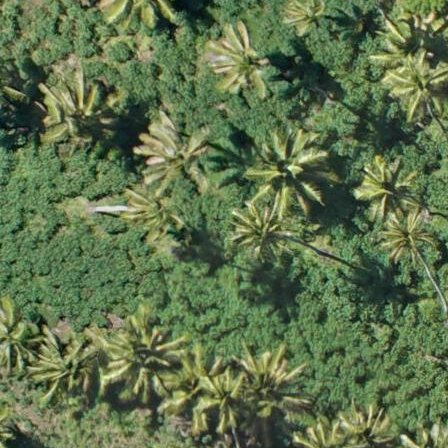palm_tree: (243, 121, 331, 215), (223, 189, 304, 276), (204, 19, 284, 99), (39, 72, 116, 149), (107, 321, 177, 397), (134, 119, 211, 187), (352, 154, 416, 222), (36, 331, 99, 399), (386, 54, 448, 117), (239, 355, 301, 416), (381, 211, 440, 268), (197, 373, 246, 425), (280, 1, 339, 43)
